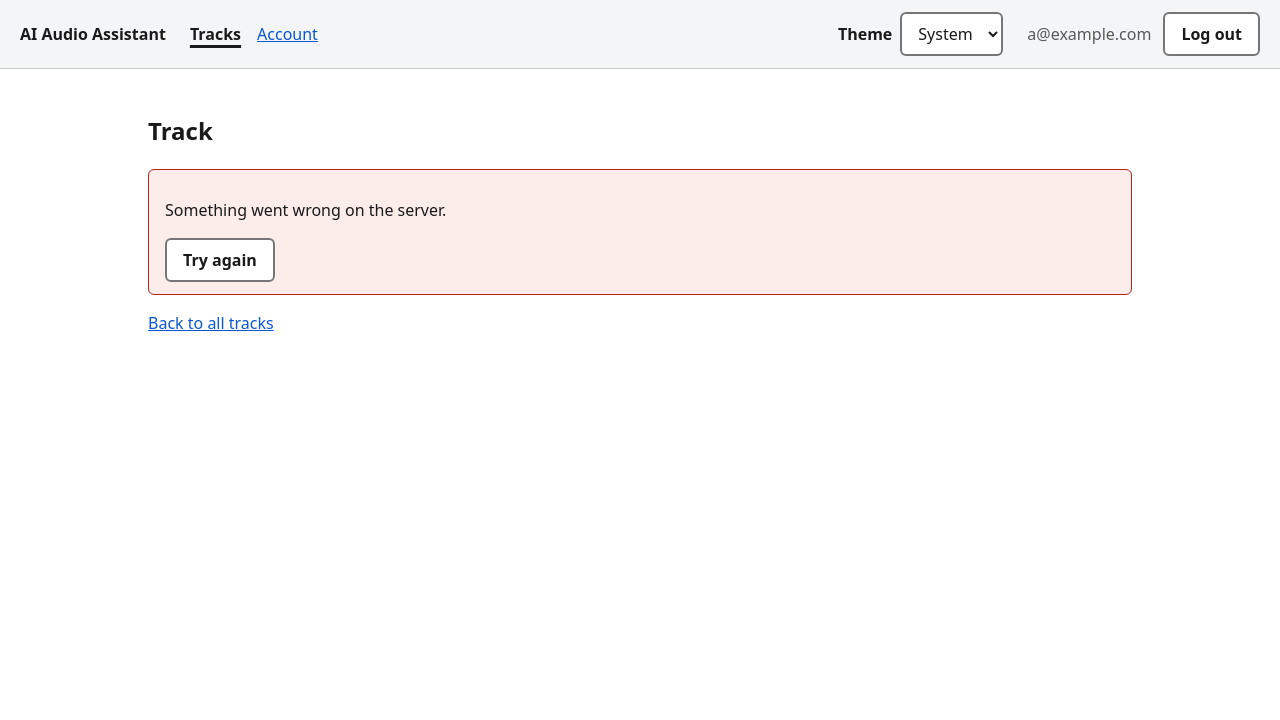
it: a track that cannot be shown › shows an error with a retry button for other failures, then recovers
The image size is (1280, 720).
Expected: the message shows "Something went wrong on the server.", [165, 199, 446, 221]
Click the button "Try again".
click(220, 260)  # box [165, 238, 275, 282]
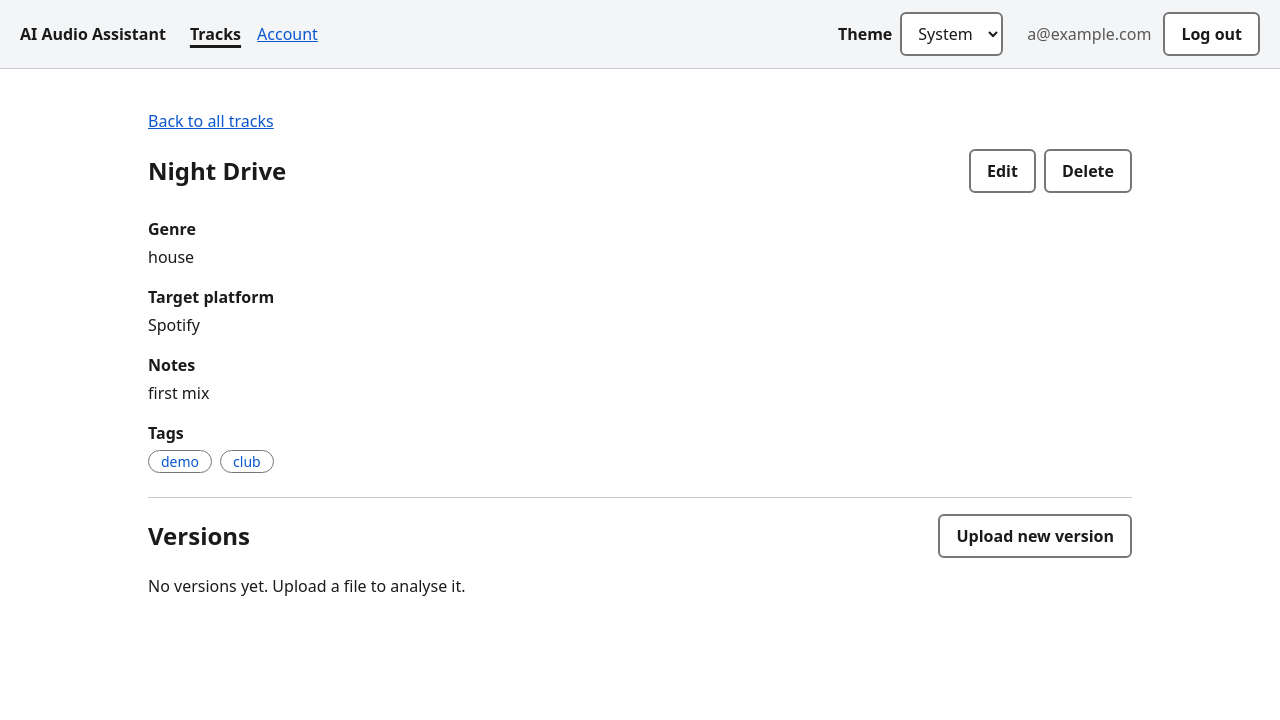
Result: the heading "Night Drive" is shown at [148, 153, 286, 189]
